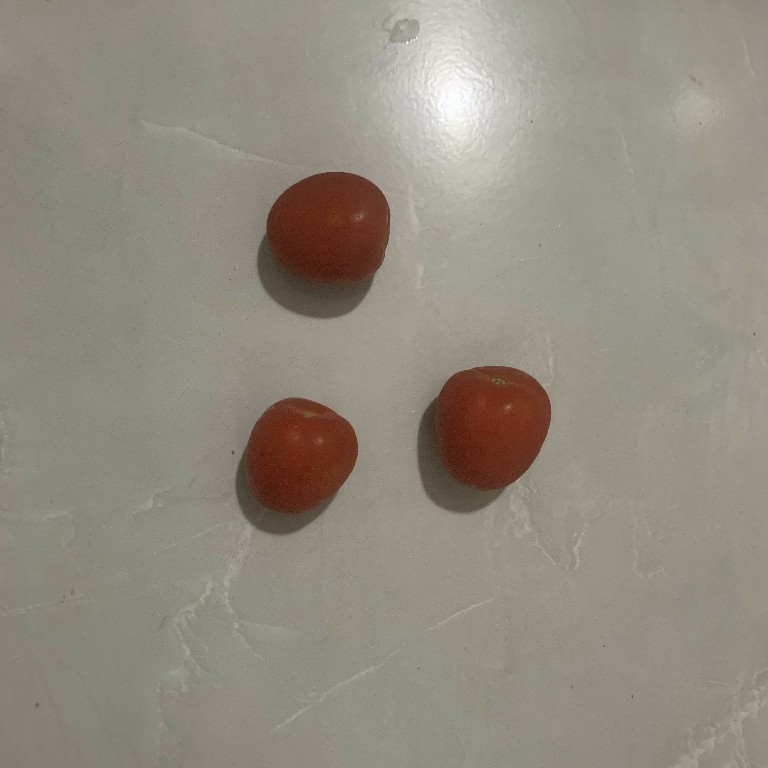OK: (430, 364, 558, 496), (262, 165, 395, 289), (237, 396, 358, 513)
